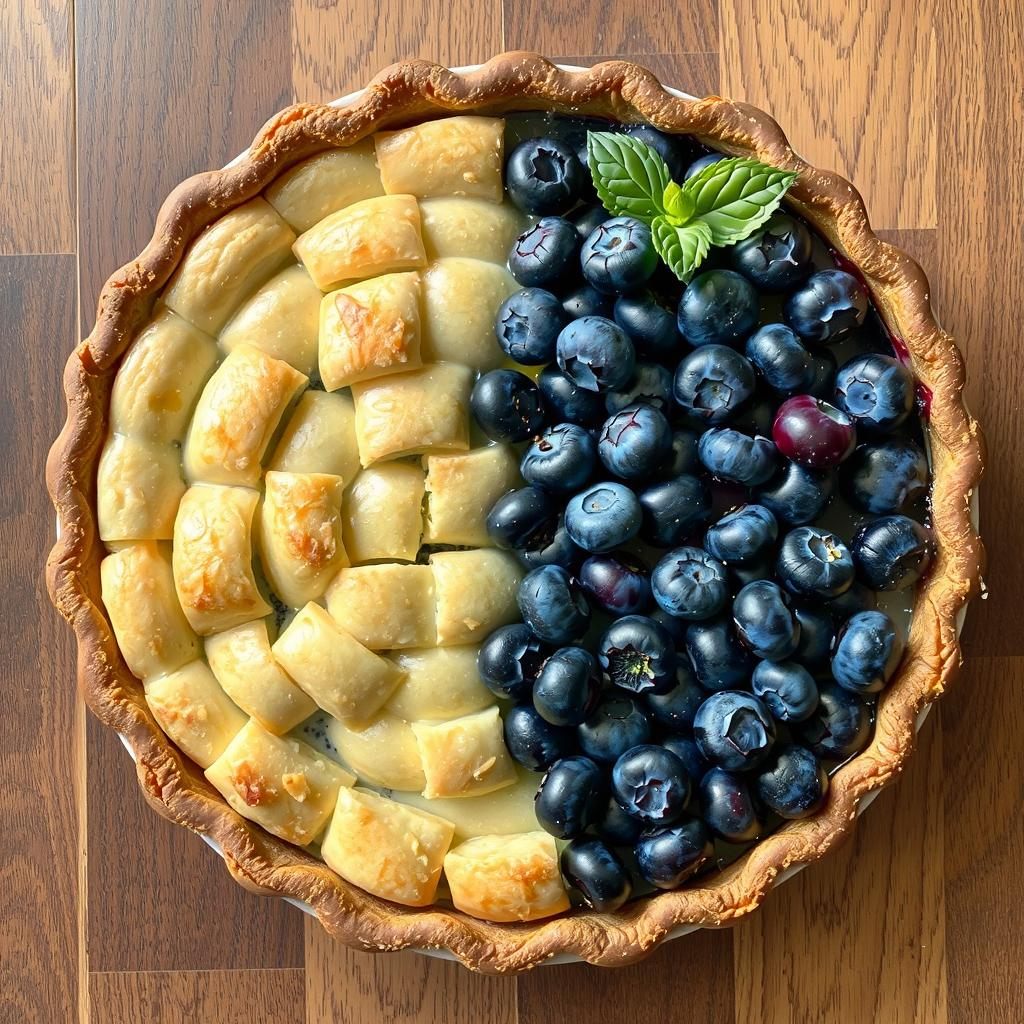pie: (41, 47, 1003, 974)
